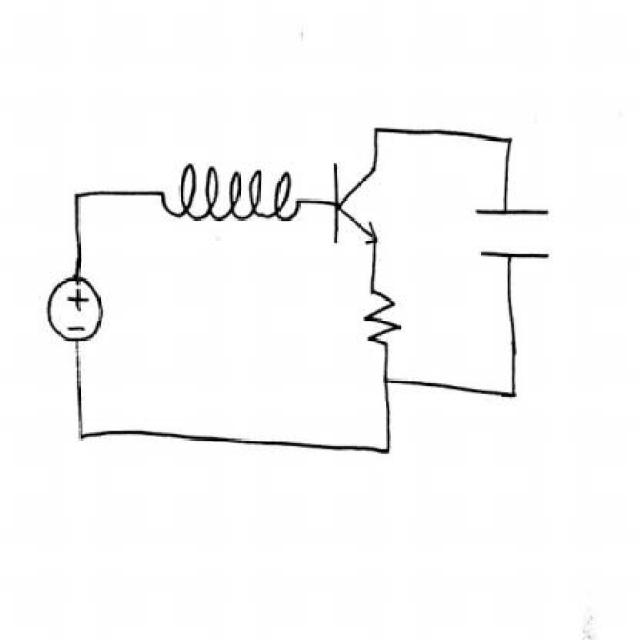capacitor: (458, 203, 566, 265)
inductor: (157, 143, 301, 240)
resistor: (359, 278, 409, 360)
transistor: (328, 141, 387, 262)
voltage_source: (45, 271, 107, 353)
